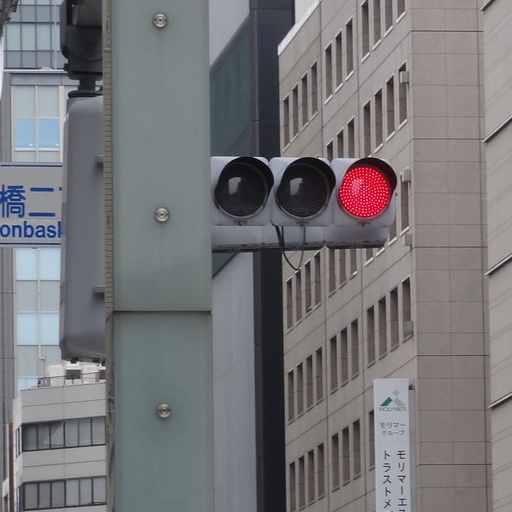Traffic_Signal_Red: (215, 151, 404, 229)
